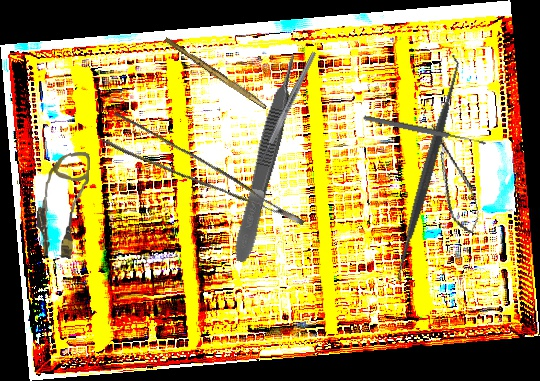Cannula: (34, 149, 91, 260)
Micro Scissor: (425, 118, 484, 238)
Scalpel Handle: (162, 36, 270, 110), (257, 50, 318, 165)
Spatula Surgical: (383, 53, 473, 284)
Surgical Spoon: (362, 114, 487, 147)
Tissue Forceps: (98, 102, 305, 258), (228, 51, 306, 265)
